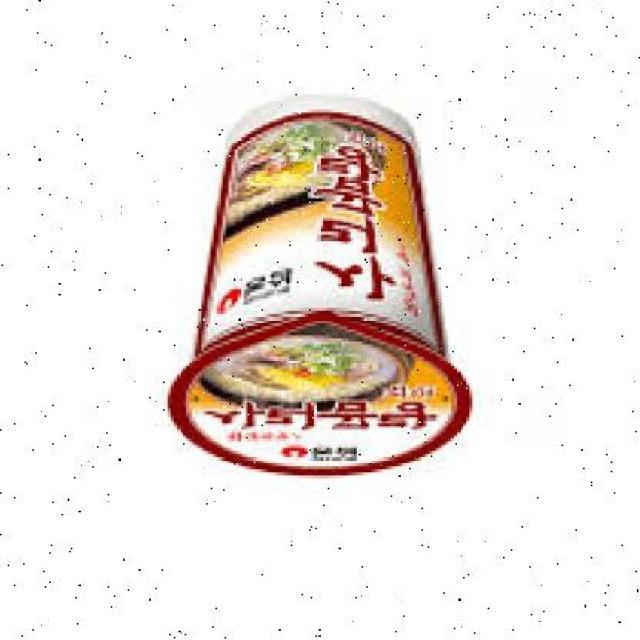Miscellaneous: (152, 78, 476, 482)
